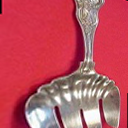fork: (22, 1, 128, 128)
